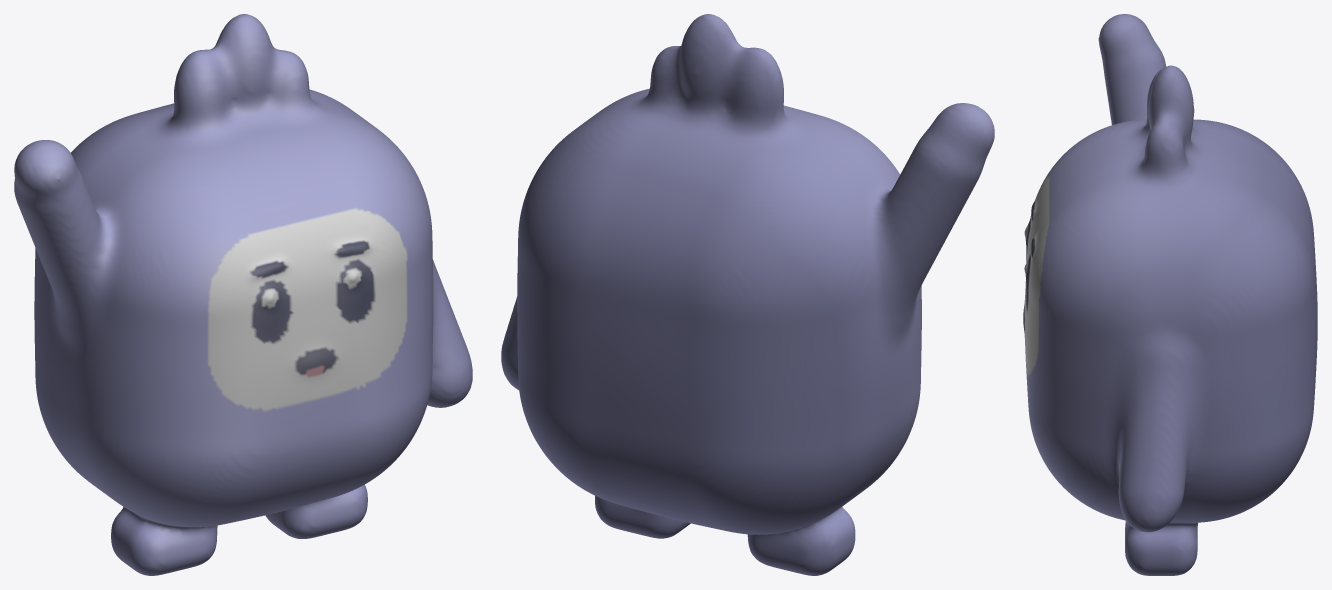
Rendered from pebby.glb.
The picture shows the model from 3 angles, left to right: view 1: azimuth 30°, elevation 25°; view 2: azimuth 150°, elevation 25°; view 3: azimuth 270°, elevation 25°; orthographic projection. The views are drawn at different scales.
Parts seen in each view (by area): view 1: geometry_0; view 2: geometry_0; view 3: geometry_0.
Boxes of the visible parts, bbox=[...] form: geometry_0: bbox=[14, 14, 472, 575]; geometry_0: bbox=[501, 14, 994, 575]; geometry_0: bbox=[1023, 14, 1317, 575].
Bounding box in the file's own units: 2.89 × 3.12 × 1.77.
